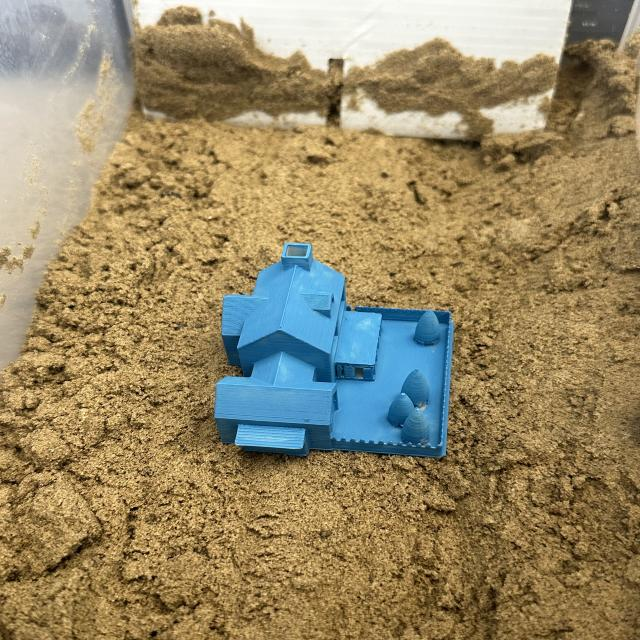house: (212, 242, 453, 468)
